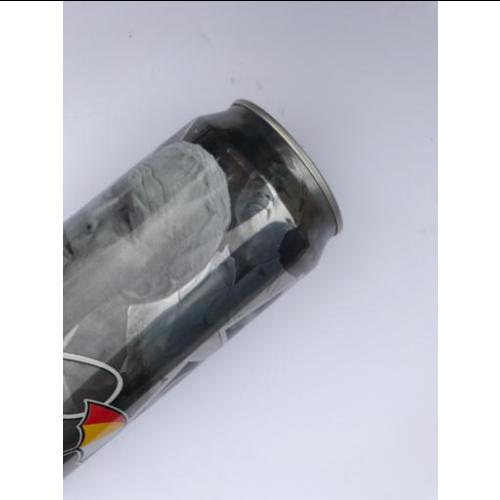metal: (61, 97, 344, 485)
